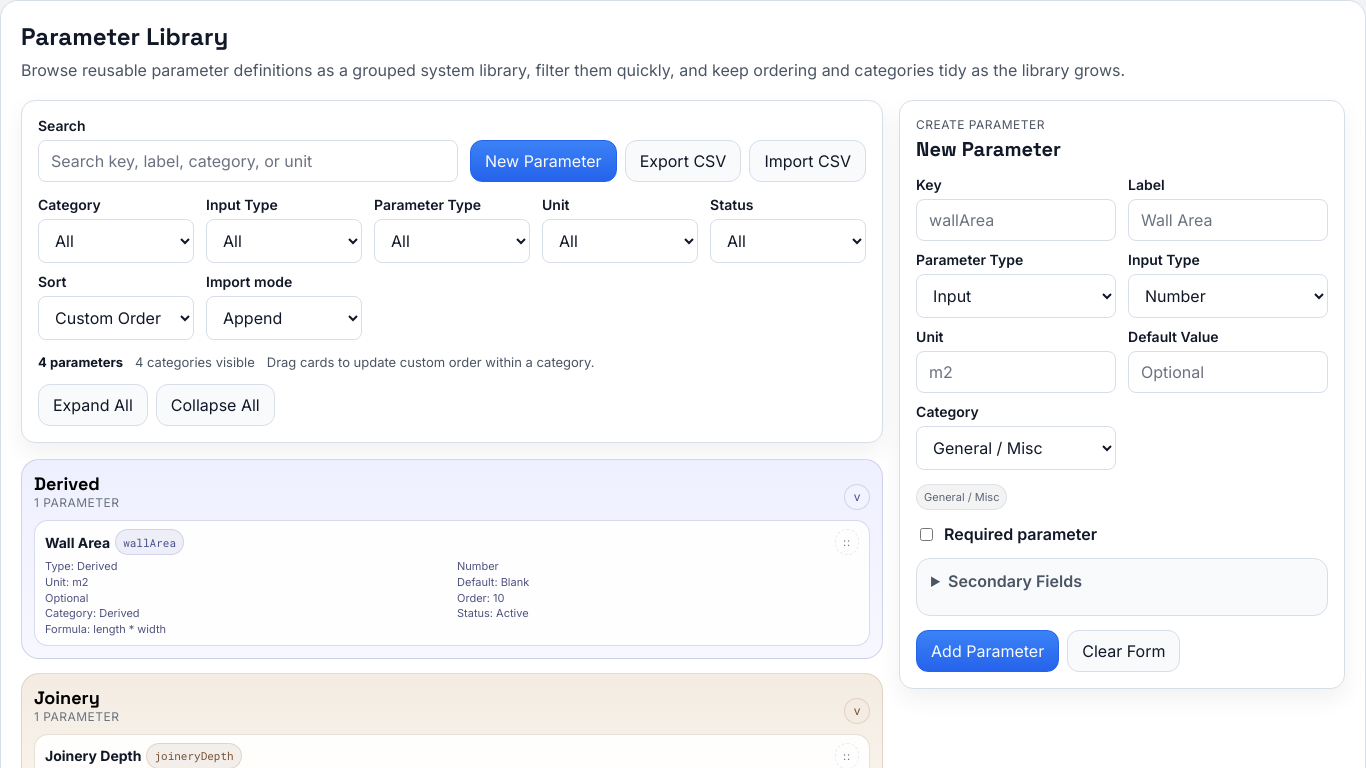
Test case: groups parameters by category and filters them with search
This screenshot has width=1366, height=768.
Expected: the heading "Derived" is shown, [34,472,100,495]
Expected: the text "wallArea" is shown, [115,529,184,555]
Type "water" into the field labelled "Search" at [248, 161], box [38,140,458,182]
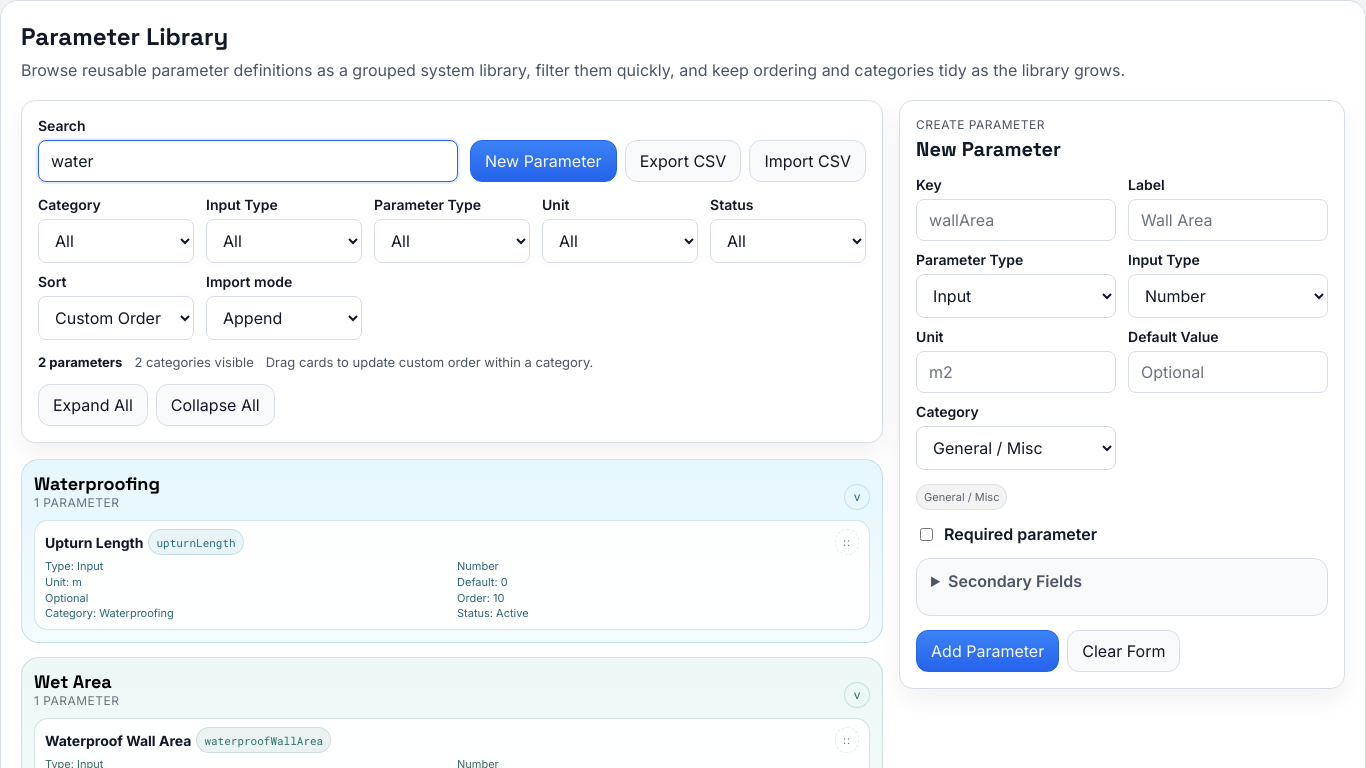
Expected: the text "Waterproof Wall Area" is shown, [45,732,191,748]
Now the text "Joinery Depth" is gone
